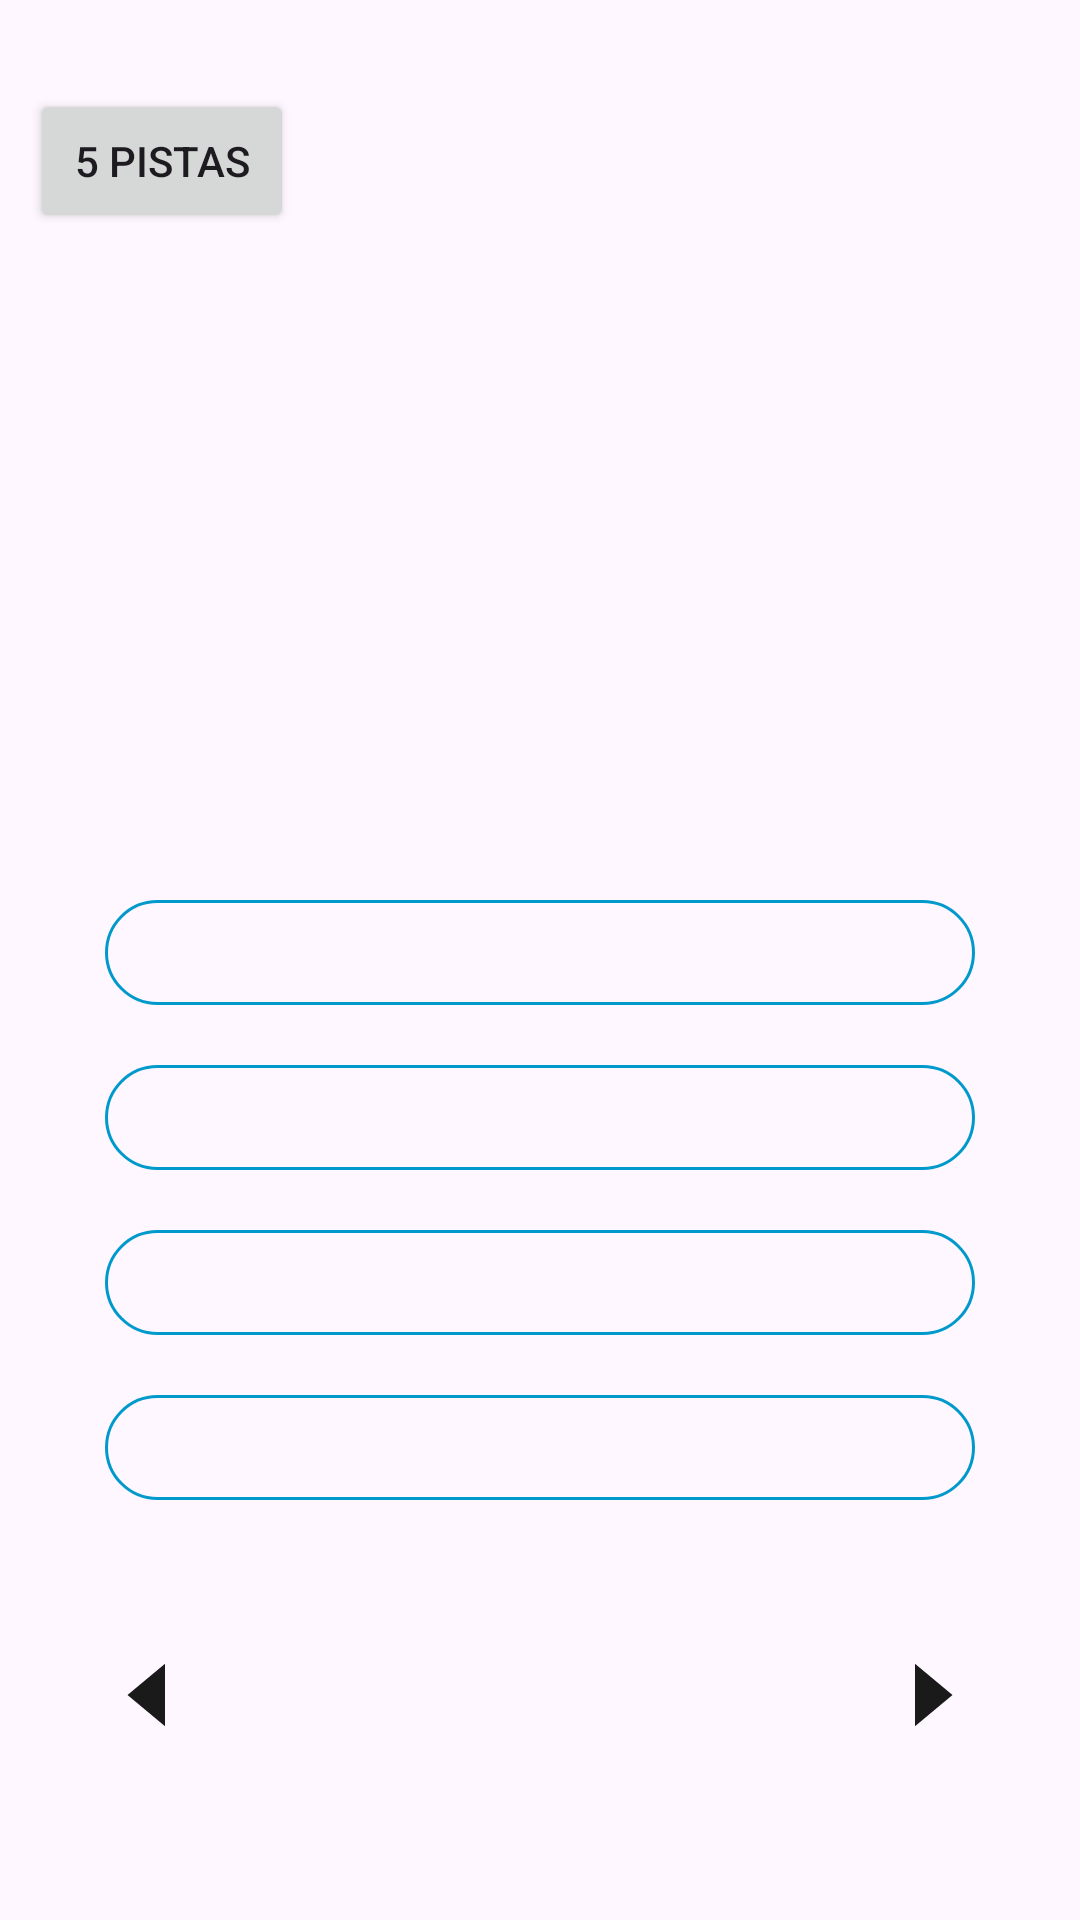

Icons on this 1080 x 1920 Android screen, each with the point to tap as (x=x, y=y):
next question: (x=933, y=1695)
previous question: (x=146, y=1695)
